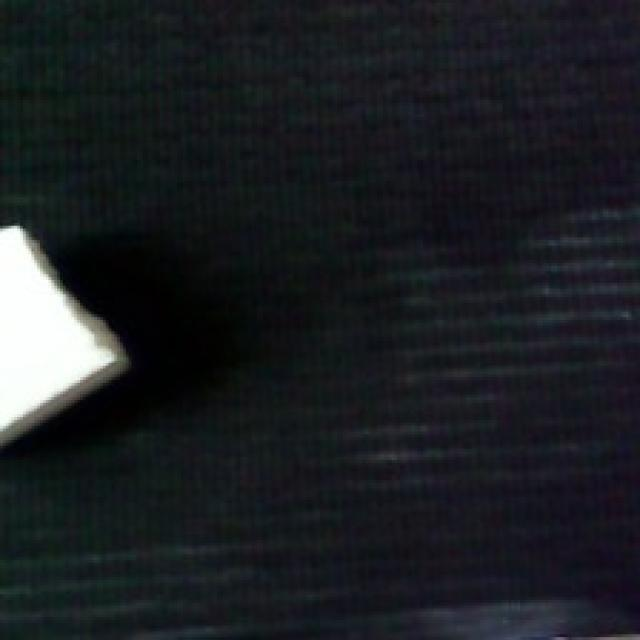defected: (0, 221, 134, 445)
